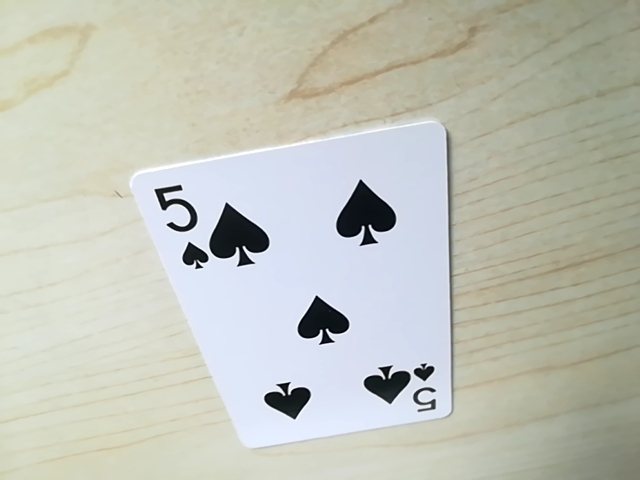ht 5: (146, 177, 212, 276), (407, 363, 444, 422)
